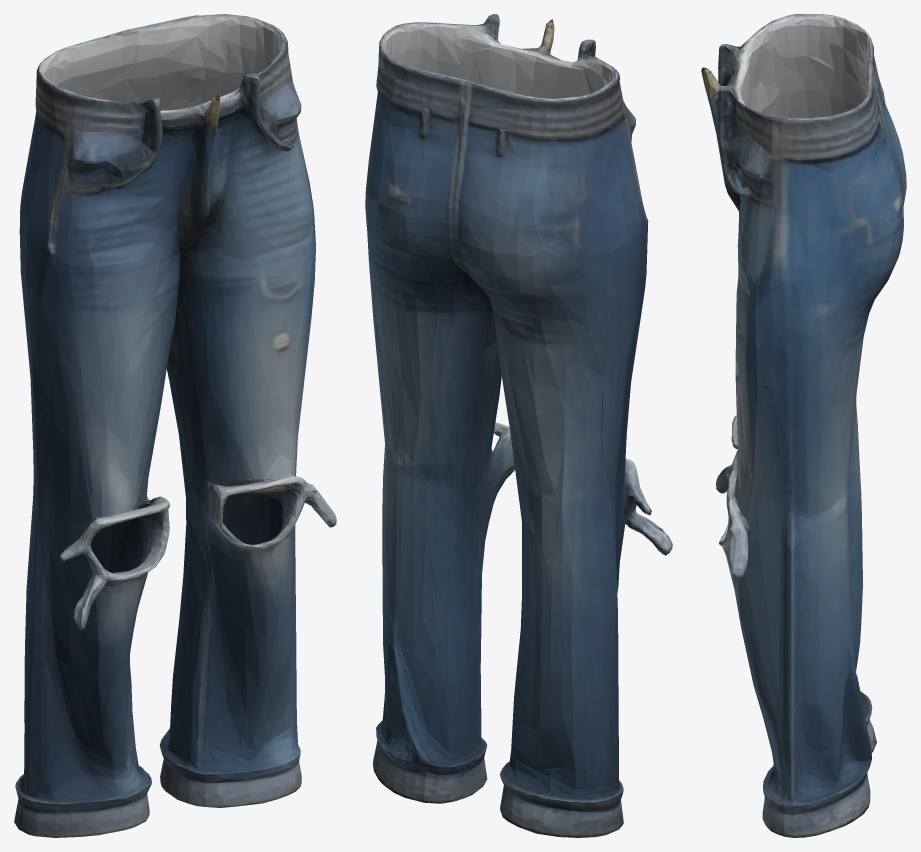
The model's file is jeans_blue_ripped.glb.
The picture shows the model from 3 angles, left to right: view 1: azimuth 30°, elevation 25°; view 2: azimuth 150°, elevation 25°; view 3: azimuth 270°, elevation 25°; orthographic projection. The views are drawn at different scales.
Visible parts, largest first — view 1: geometry_0; view 2: geometry_0; view 3: geometry_0.
Boxes of the visible parts, <box> form: geometry_0: <box>14,14,336,837</box>; geometry_0: <box>365,14,672,837</box>; geometry_0: <box>701,14,906,837</box>.
Size of the model in its own units: 0.3781 by 0.9989 by 0.2609.
1 material, 1 textured.
